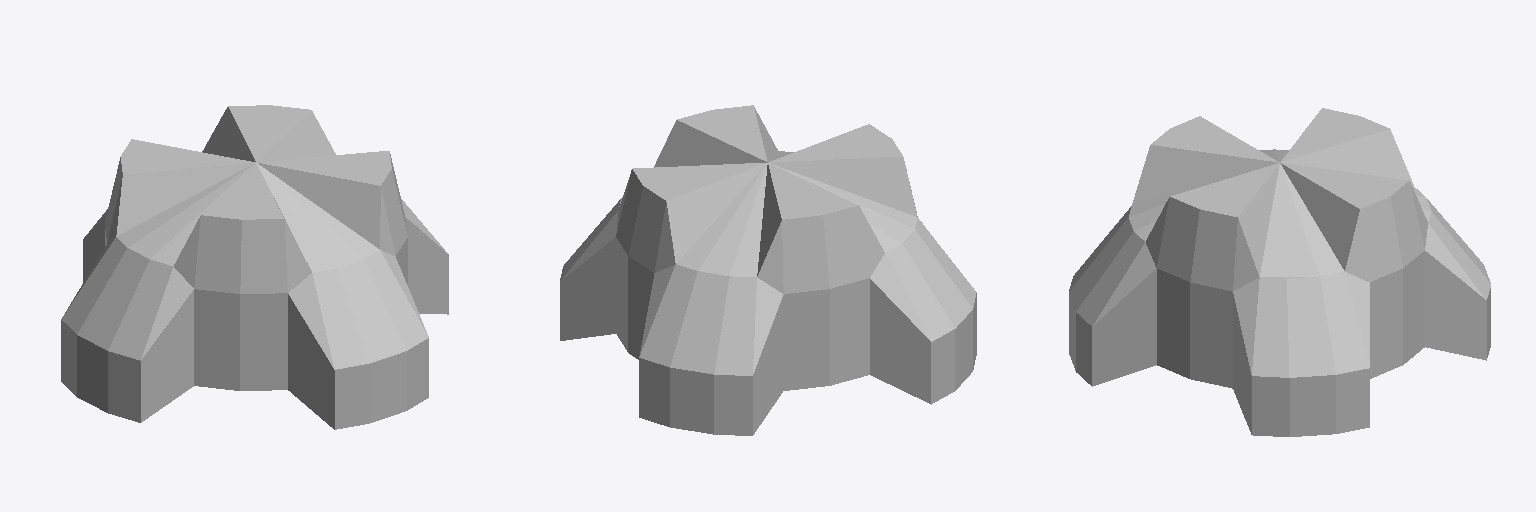
Rendered from AugmentBottonm.obj.
3 views of the same model, side by side, from view 1: azimuth 30°, elevation 25°; view 2: azimuth 150°, elevation 25°; view 3: azimuth 270°, elevation 25° (orthographic).
Bounding box in the file's own units: 15.44 × 7.53 × 15.43.